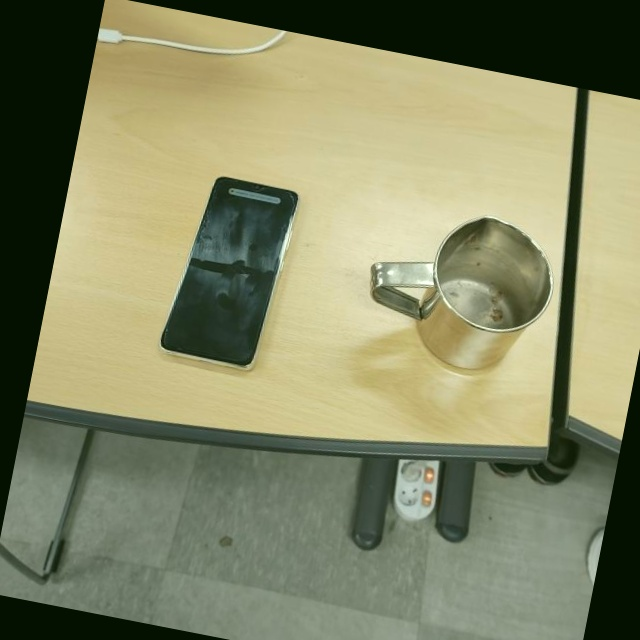cup: (354, 194, 564, 385)
phone: (155, 167, 302, 379)
